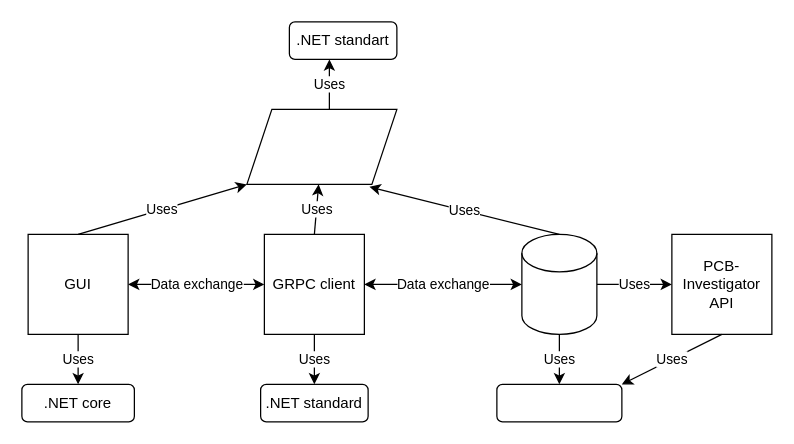
Some shapes in this 794 by 444 pixel diagram are drawn without their labels. Here are the shapes that lost their labels. From the top down, the centre of each, then its label:
[321,146]: Interfaces
[559,283]: GRPC server
[559,402]: .NET framework
